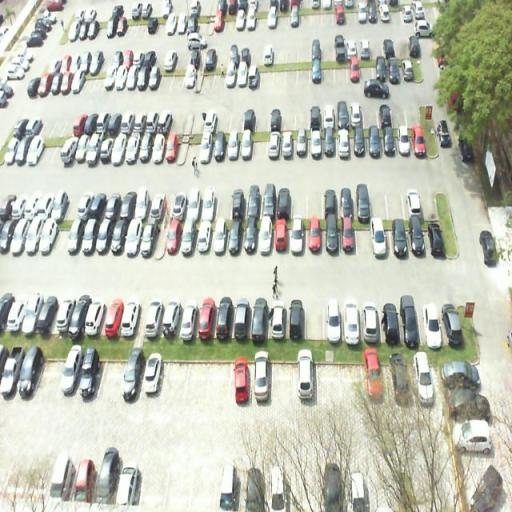Slot-empty: (138, 462, 172, 512), (336, 360, 370, 410), (270, 360, 300, 413), (96, 361, 129, 406), (39, 350, 67, 403), (185, 356, 214, 404), (164, 355, 190, 407), (167, 463, 194, 512), (210, 357, 234, 407), (315, 360, 341, 405), (304, 303, 332, 343), (382, 189, 412, 223), (366, 188, 392, 223), (305, 188, 328, 222), (288, 103, 314, 132), (251, 134, 273, 167), (289, 188, 310, 222), (214, 106, 236, 133), (279, 106, 299, 132), (215, 196, 235, 216)
Slot-occupied: (336, 302, 368, 350), (122, 343, 146, 404), (250, 295, 276, 347), (228, 356, 254, 406), (80, 348, 102, 404), (252, 354, 275, 406), (142, 352, 164, 404), (196, 295, 218, 343), (142, 298, 166, 340), (166, 214, 182, 259)
